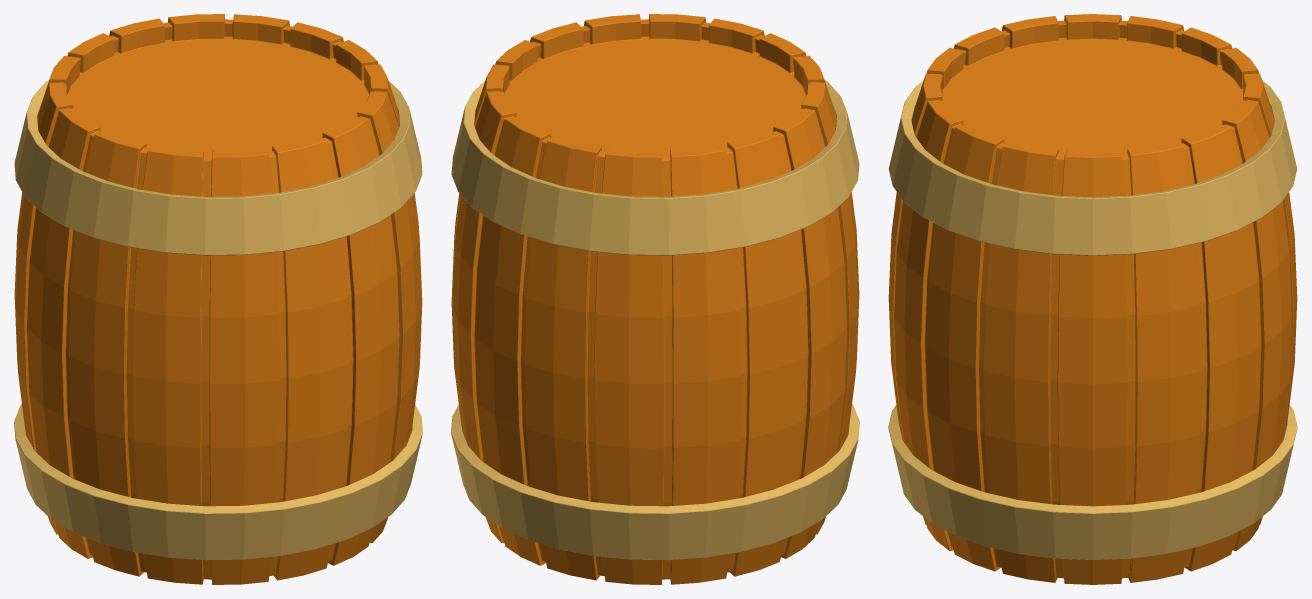
The model's file is berralImproved.fbx.
The picture shows the model from 3 angles, left to right: view 1: azimuth 30°, elevation 25°; view 2: azimuth 150°, elevation 25°; view 3: azimuth 270°, elevation 25°; orthographic projection.
Parts seen in each view (by area): view 1: Berralfinall; view 2: Berralfinall; view 3: Berralfinall.
Boxes of the visible parts, x1,y1,x2,y2 form: Berralfinall: (14,14,422,584); Berralfinall: (451,14,859,584); Berralfinall: (888,14,1297,584).
Size of the model in its own units: 330 by 380 by 330.
